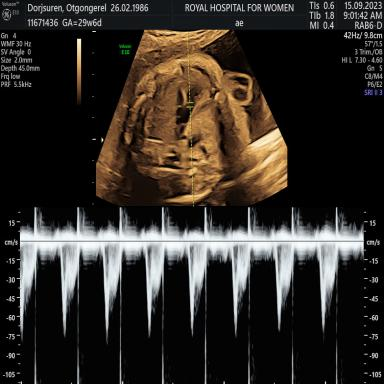Ultrasound-Waves: (28, 205, 362, 384)
